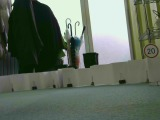speed_20: (142, 42, 160, 60)
